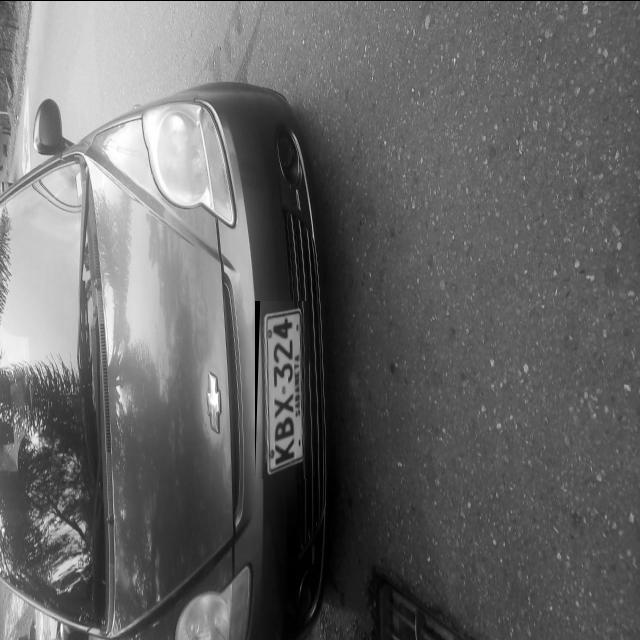plate: (260, 300, 309, 477)
